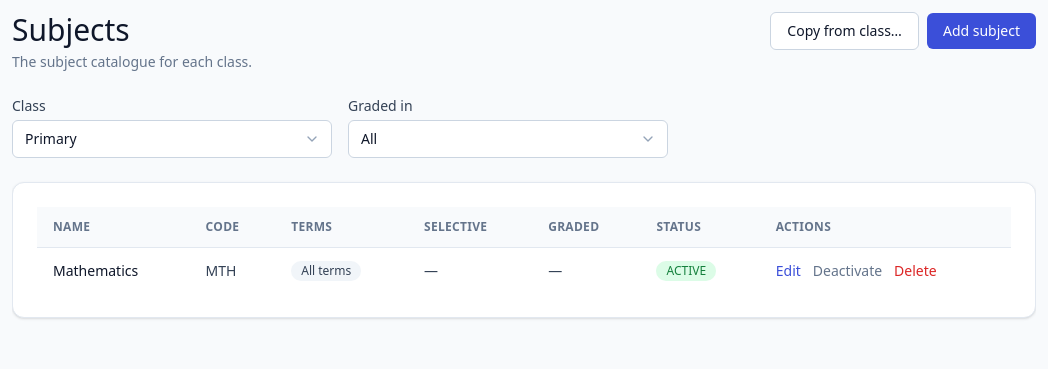
Test case: SubjectsPage › shows a no-match state when no subject is graded in the chosen period
This screenshot has width=1048, height=369.
Check: the text "Mathematics" is shown, box [37, 248, 190, 293]
Select "Exam only" in the dropdown labelled "Graded in" at (508, 139), box [348, 120, 668, 158]
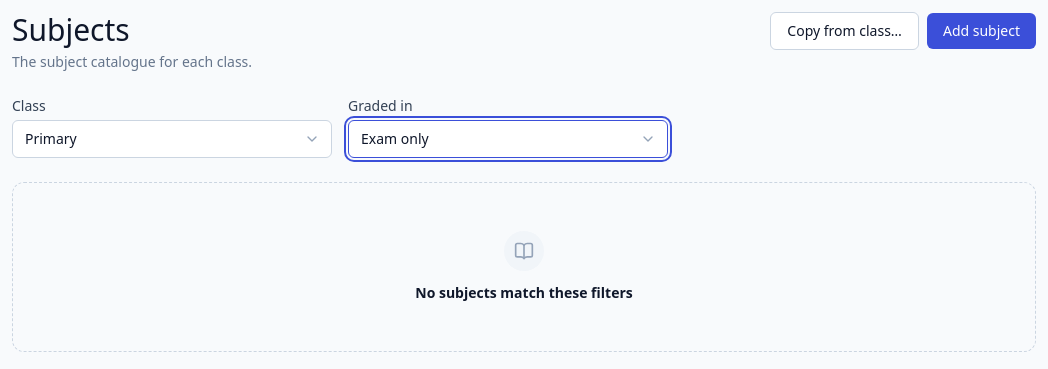
Check: the heading "No subjects match these filters" is shown, box [415, 283, 633, 303]
Check: the text "Mathematics" is gone
